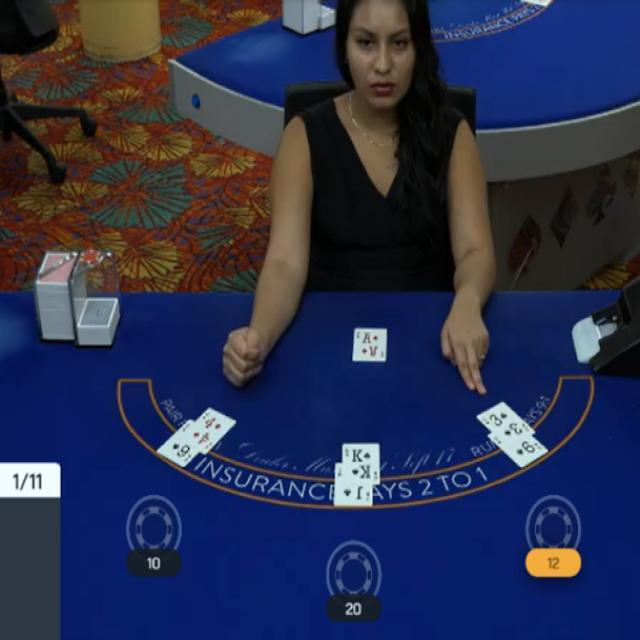Card-3: (477, 402, 535, 444)
Card-4: (182, 408, 235, 454)
Card-6: (156, 419, 199, 468)
Card-9: (488, 432, 548, 467)
Card-A: (353, 329, 387, 361)
Card-J: (334, 463, 372, 506)
Card-K: (344, 443, 379, 484)
